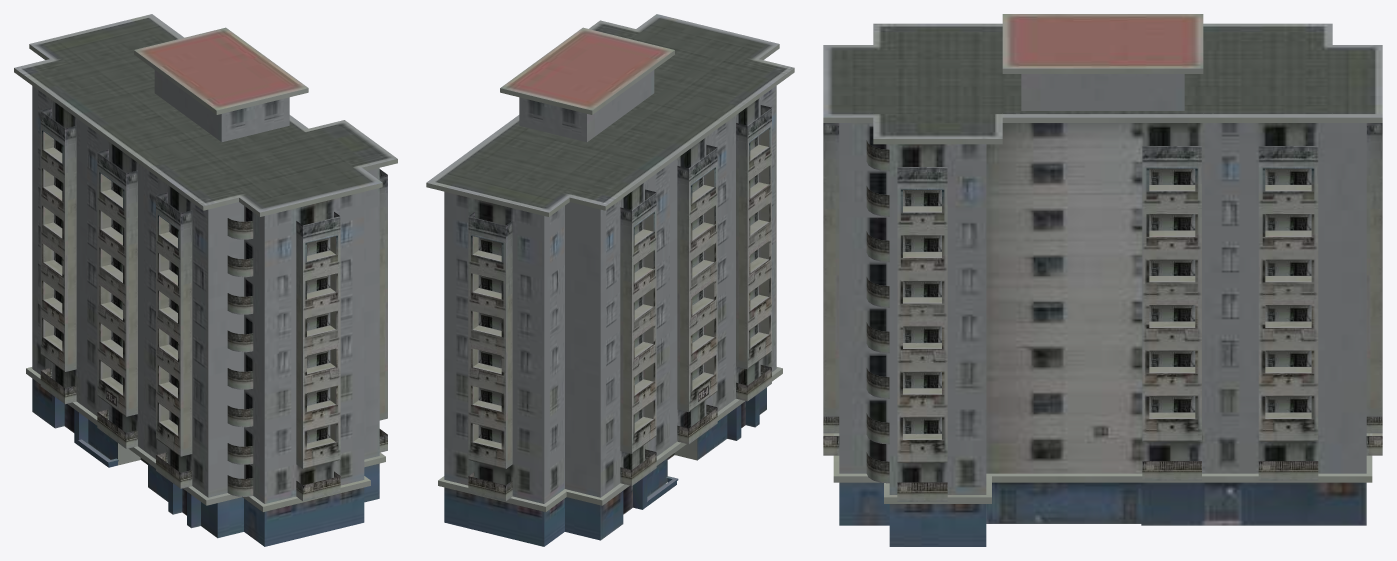
3 renders of one model, left to right at view 1: azimuth 30°, elevation 25°; view 2: azimuth 150°, elevation 25°; view 3: azimuth 270°, elevation 25°, orthographic. The views are drawn at different scales.
Parts seen in each view (by area): view 1: HN552___CT5A_Me_Tri_Ha; view 2: HN552___CT5A_Me_Tri_Ha; view 3: HN552___CT5A_Me_Tri_Ha.
Boxes of the visible parts, x1,y1,x2,y2 form: HN552___CT5A_Me_Tri_Ha: [14, 14, 397, 546]; HN552___CT5A_Me_Tri_Ha: [426, 14, 794, 546]; HN552___CT5A_Me_Tri_Ha: [823, 14, 1382, 546].
Size of the model in its own units: 19.03 by 35.7 by 39.
Materials: 1 (1 with a texture image).
